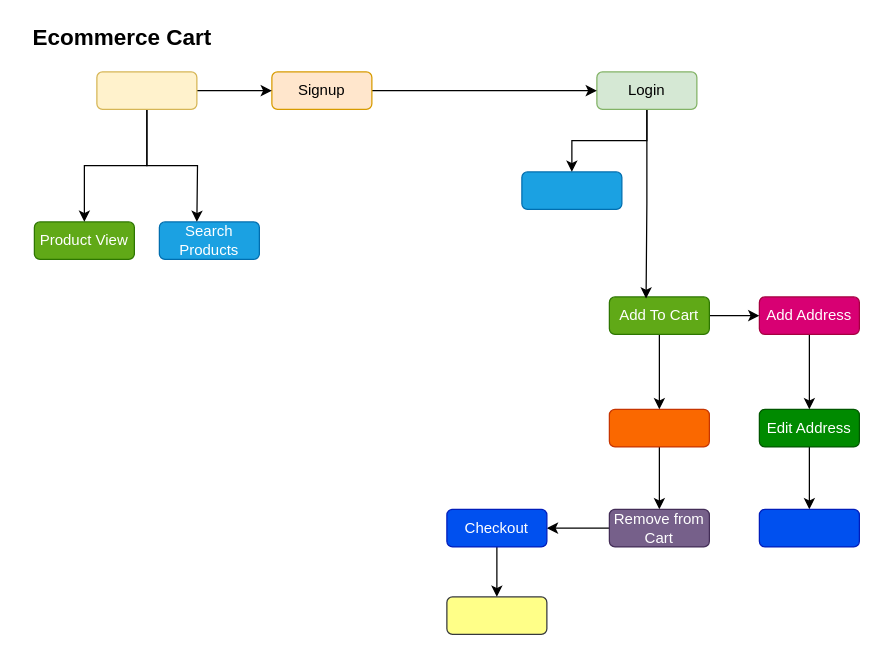
This 881x656 diagram has some shape labels left out. The shapes that lost their labels are listed below. From the top down, each one's centre as x and y in pixels, then its label:
point 146,90: User
point 571,190: Add Products
point 658,427: List Cart
point 808,527: Delete Address
point 496,615: Instant Buy
